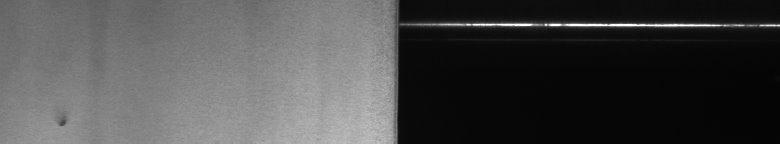fi: (52, 112, 72, 133)
